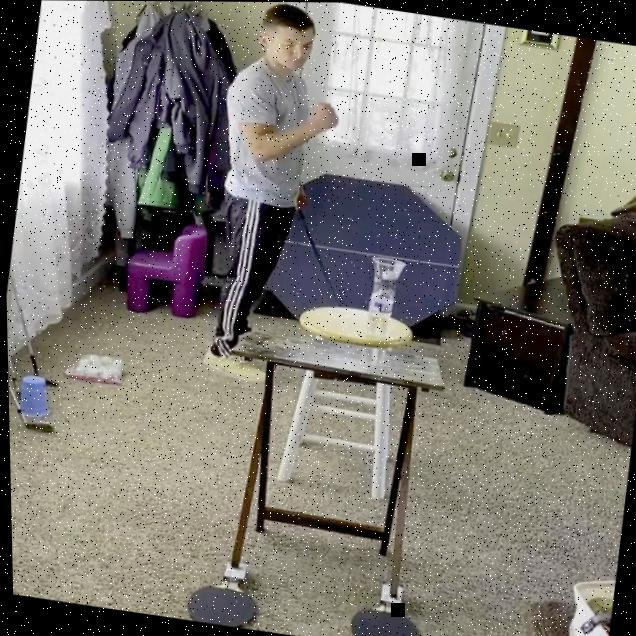GolfBall: (382, 269, 393, 279)
